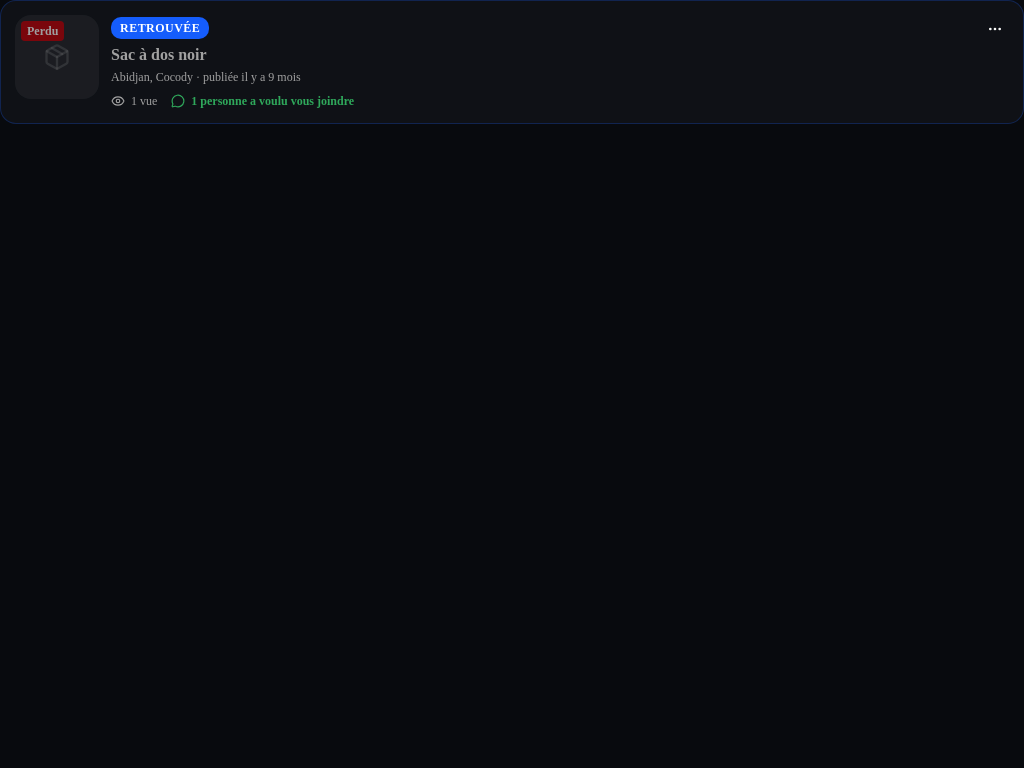
Test: ListingCard › the five crossings of the two state axes › offers a closed resolved listing its way back
Expected: the text "Retrouvée" is shown, [111,17,209,39]
Click the button named "Actions sur cette annonce" at (995, 29), box [977,11,1013,47]
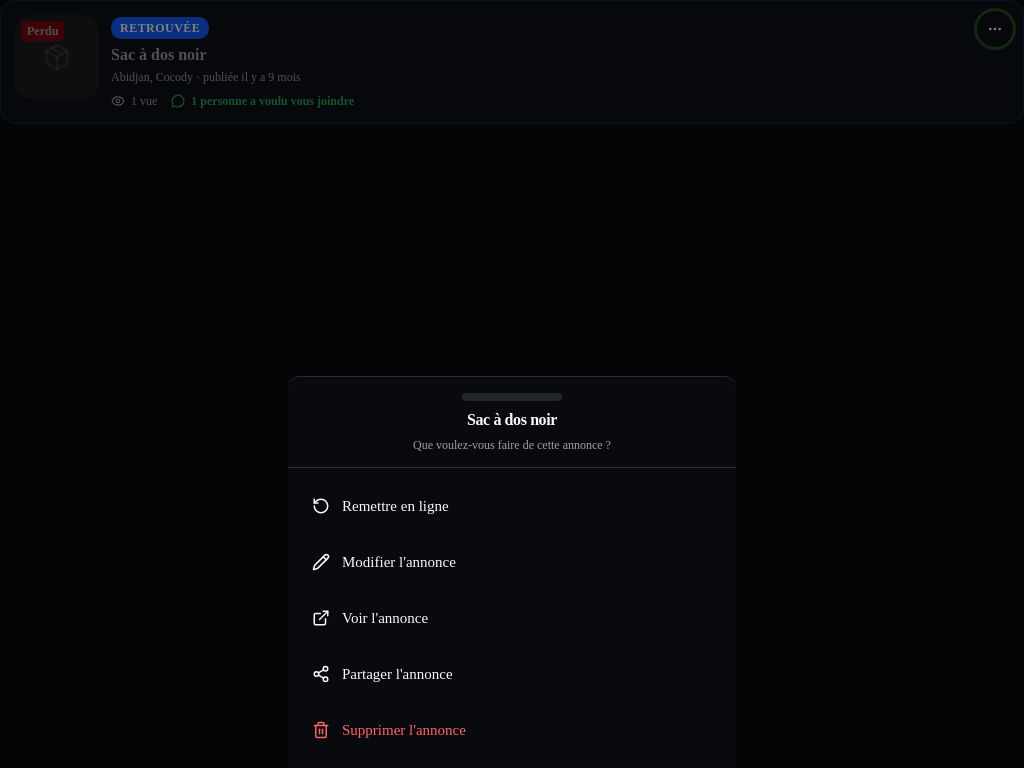
Result: the button "Remettre en ligne" is shown at [300,480,724,532]
